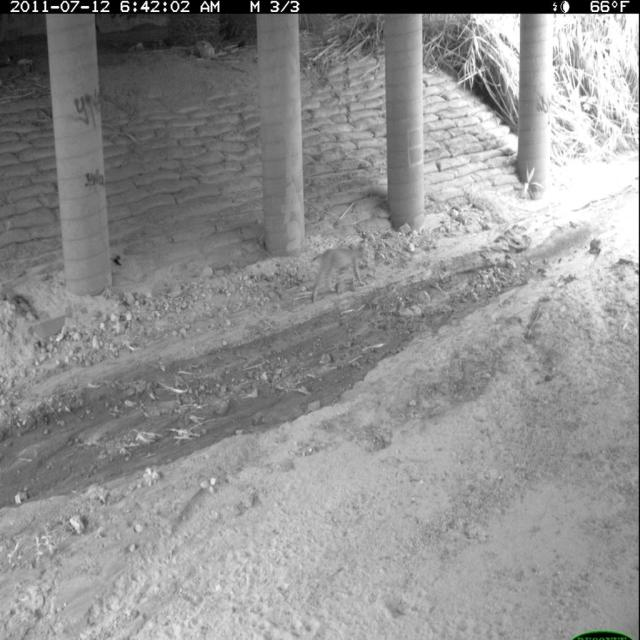bobcat: (308, 238, 373, 309)
